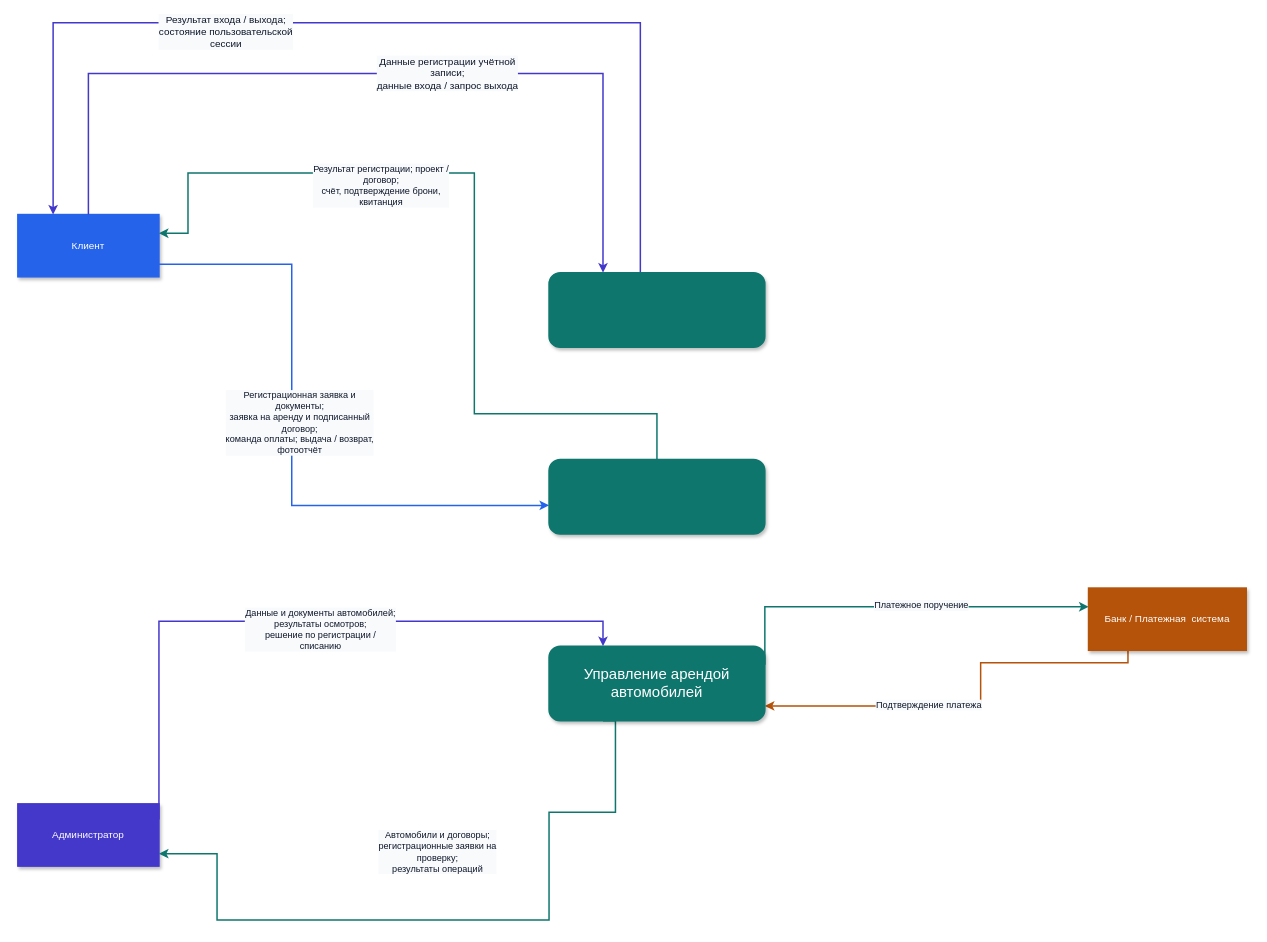
The diagram is 1267 pixels wide and 942 high, and some of its shapes have lost their labels. Each missing label, with the centre of its shape:
Управление автопарком: pixel 657 497
Управление пользователями: pixel 657 310
